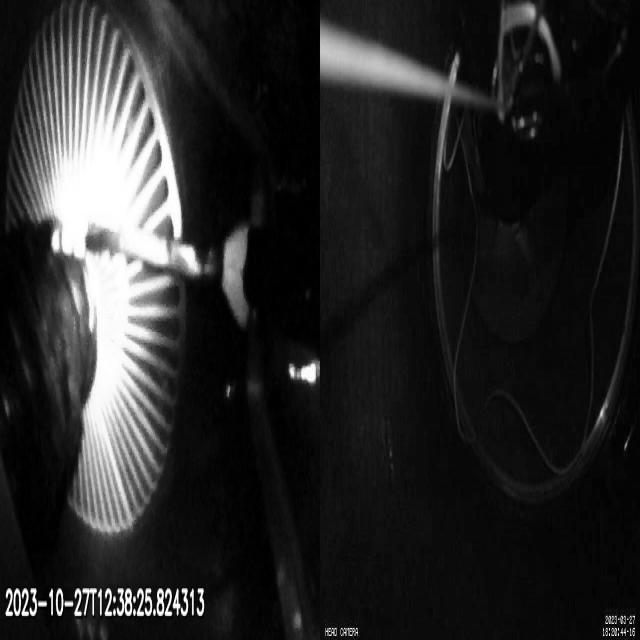head: (224, 227, 275, 327)
white-dots: (51, 217, 87, 261)
